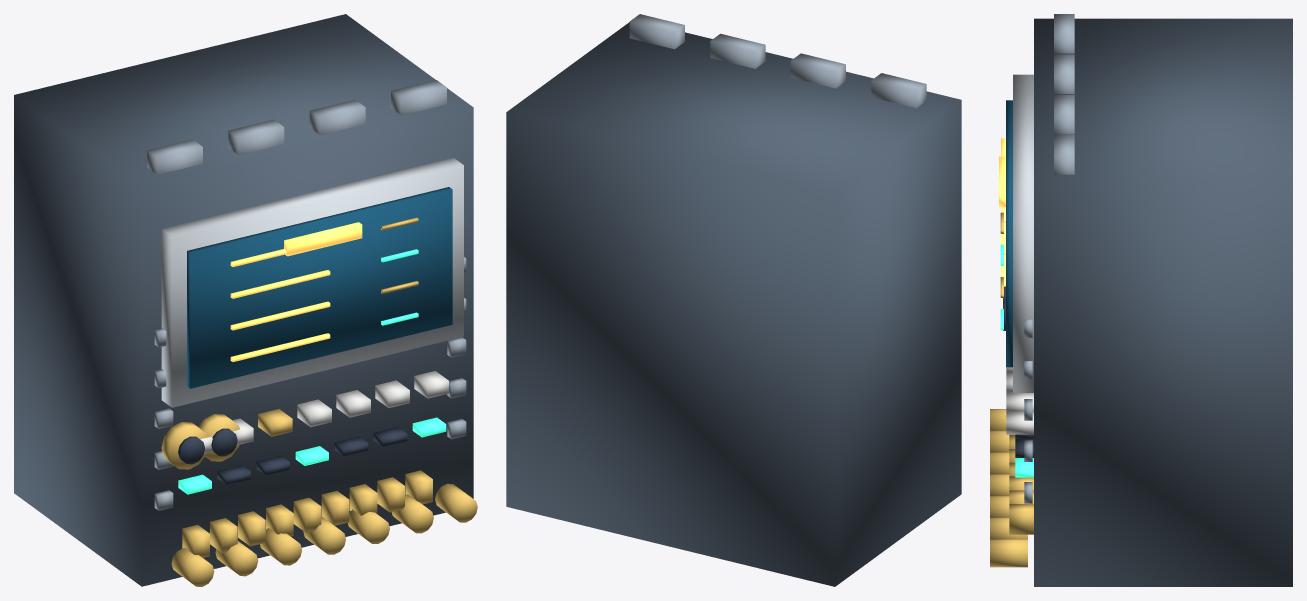
Rendered from 61_L87_HabitatElectricalLoadEmulator.glb.
3 views of the same model, side by side, from view 1: azimuth 30°, elevation 25°; view 2: azimuth 150°, elevation 25°; view 3: azimuth 270°, elevation 25° (orthographic). The views are drawn at different scales.
Parts seen in each view (by area): view 1: L87_HabitatElectricalLoadEmul_Part_0000, L87_HabitatElectricalLoadEmul_Part_0002, L87_HabitatElectricalLoadEmul_Part_0001, L87_HabitatElectricalLoadEmul_Part_0004, L87_HabitatElectricalLoadEmul_Part_0010, L87_HabitatElectricalLoadEmul_Part_0007, L87_HabitatElectricalLoadEmul_Part_0009, L87_HabitatElectricalLoadEmul_Part_0003, L87_HabitatElectricalLoadEmul_Part_0008, L87_HabitatElectricalLoadEmul_Part_0006, L87_HabitatElectricalLoadEmul_Part_0011, L87_HabitatElectricalLoadEmul_Part_0012 (+3 smaller); view 2: L87_HabitatElectricalLoadEmul_Part_0000, L87_HabitatElectricalLoadEmul_Part_0010; view 3: L87_HabitatElectricalLoadEmul_Part_0000, L87_HabitatElectricalLoadEmul_Part_0001, L87_HabitatElectricalLoadEmul_Part_0004, L87_HabitatElectricalLoadEmul_Part_0010, L87_HabitatElectricalLoadEmul_Part_0002, L87_HabitatElectricalLoadEmul_Part_0007, L87_HabitatElectricalLoadEmul_Part_0009, L87_HabitatElectricalLoadEmul_Part_0005, L87_HabitatElectricalLoadEmul_Part_0006.
Boxes of the visible parts, x1,y1,x2,y2 form: L87_HabitatElectricalLoadEmul_Part_0000: (14,14,473,586); L87_HabitatElectricalLoadEmul_Part_0002: (187,187,452,388); L87_HabitatElectricalLoadEmul_Part_0001: (161,158,463,407); L87_HabitatElectricalLoadEmul_Part_0004: (171,217,477,586); L87_HabitatElectricalLoadEmul_Part_0010: (147,80,446,174); L87_HabitatElectricalLoadEmul_Part_0007: (200,371,448,453); L87_HabitatElectricalLoadEmul_Part_0009: (154,257,466,510); L87_HabitatElectricalLoadEmul_Part_0003: (230,249,330,361); L87_HabitatElectricalLoadEmul_Part_0008: (217,427,407,484); L87_HabitatElectricalLoadEmul_Part_0006: (178,249,446,494); L87_HabitatElectricalLoadEmul_Part_0011: (284,222,362,256); L87_HabitatElectricalLoadEmul_Part_0012: (161,422,207,469); L87_HabitatElectricalLoadEmul_Part_0000: (506,22,961,586); L87_HabitatElectricalLoadEmul_Part_0010: (629,14,926,108); L87_HabitatElectricalLoadEmul_Part_0000: (1034,18,1292,586); L87_HabitatElectricalLoadEmul_Part_0001: (1013,74,1033,392); L87_HabitatElectricalLoadEmul_Part_0004: (990,212,1033,567); L87_HabitatElectricalLoadEmul_Part_0010: (1054,14,1074,174); L87_HabitatElectricalLoadEmul_Part_0002: (1006,100,1012,367); L87_HabitatElectricalLoadEmul_Part_0007: (1006,367,1033,434); L87_HabitatElectricalLoadEmul_Part_0009: (1024,319,1032,503); L87_HabitatElectricalLoadEmul_Part_0005: (1009,504,1033,534); L87_HabitatElectricalLoadEmul_Part_0006: (1000,244,1033,477).
Bounding box in the file's own units: 1.07 × 1.28 × 0.8347.
